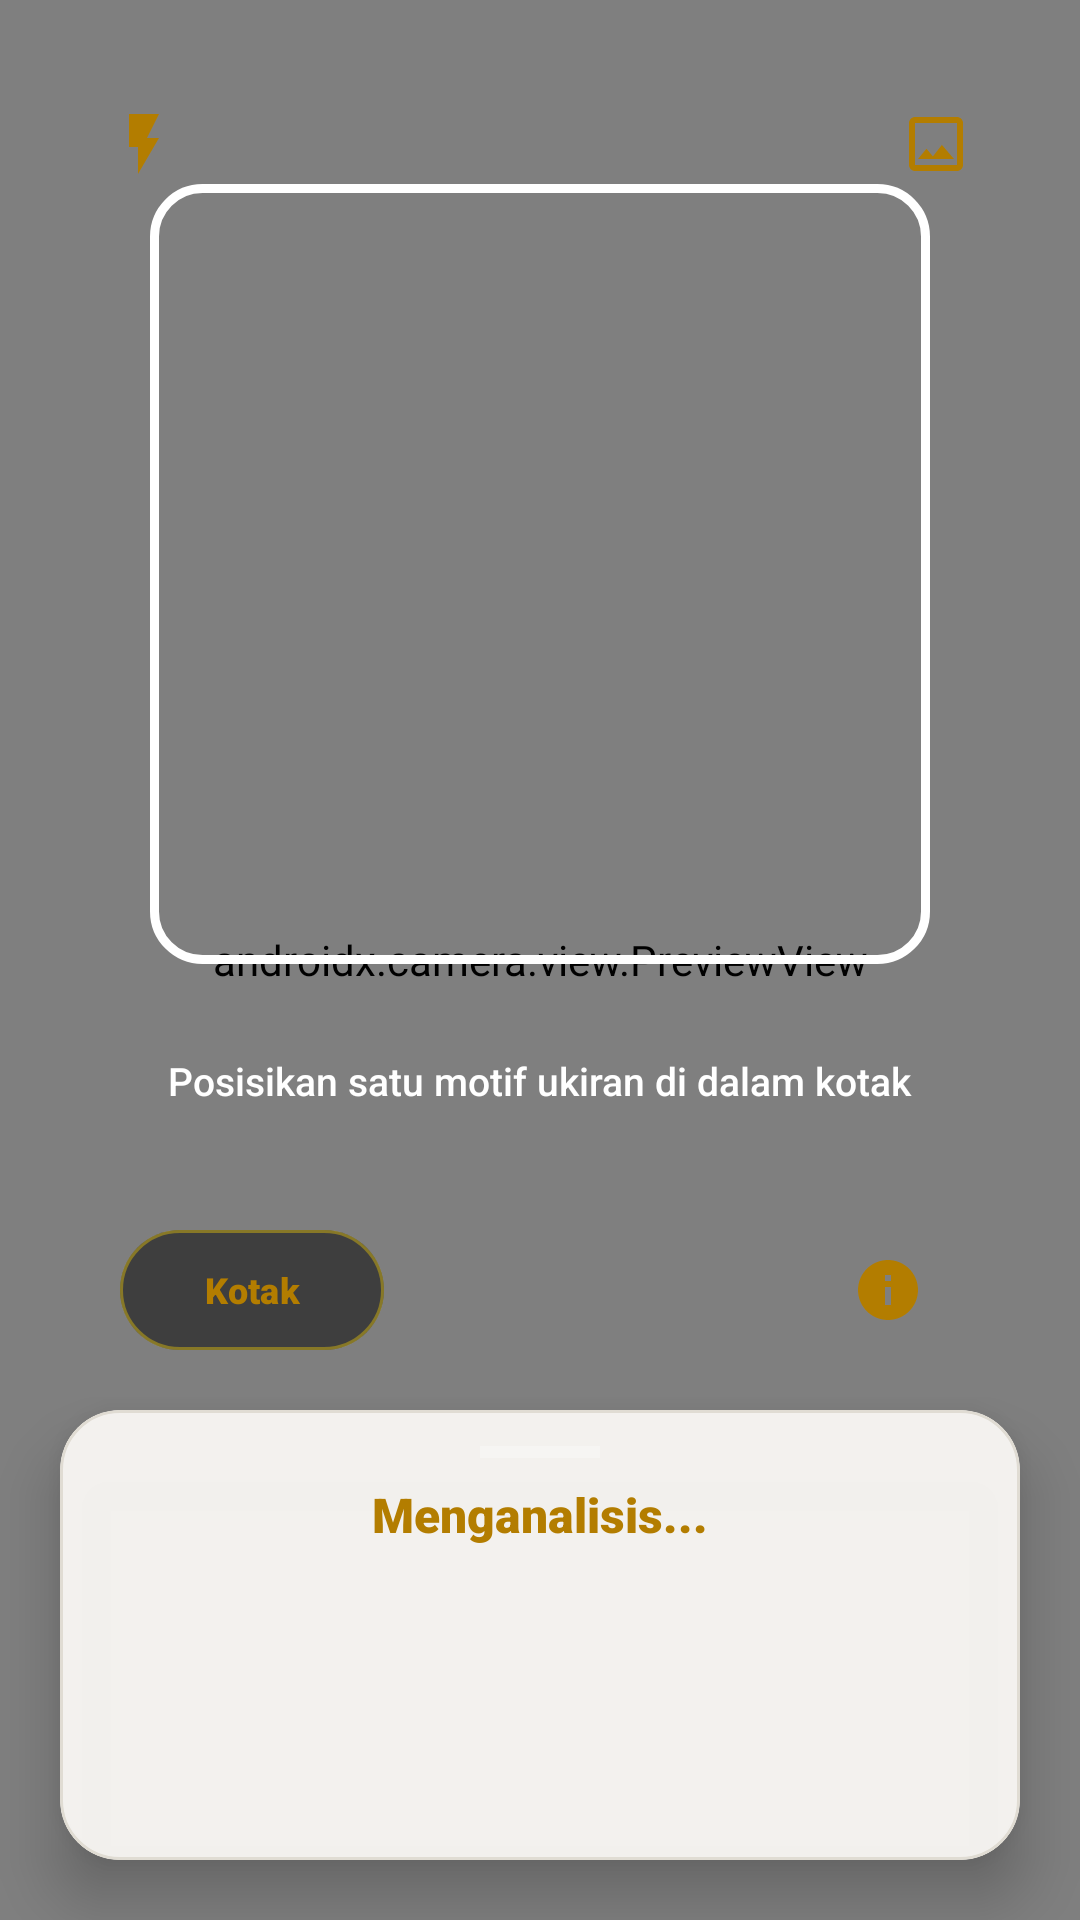

Named icons in this screenshot (1080×1920) and their centers, (x=x, y=y):
flash: (x=144, y=144)
gallery: (x=936, y=144)
info: (x=888, y=1290)
